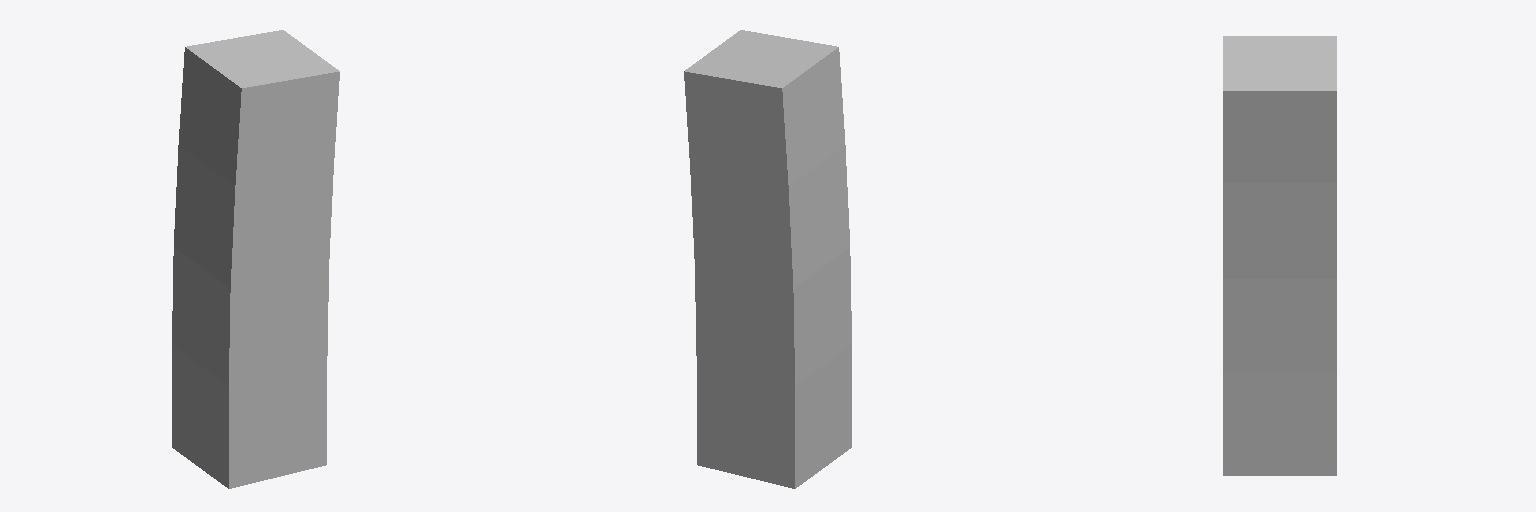
The model's file is Animation_000003.obj.
3 views of the same model, side by side, from view 1: azimuth 30°, elevation 25°; view 2: azimuth 150°, elevation 25°; view 3: azimuth 270°, elevation 25° (orthographic).
Visible parts, largest first — view 1: Cube; view 2: Cube; view 3: Cube.
Part boxes in pixels (x1,y1,x2,y2): Cube: (172,30,339,488); Cube: (684,30,851,488); Cube: (1223,36,1336,475).
Bounding box in the file's own units: 1.5 × 5.13 × 1.33.